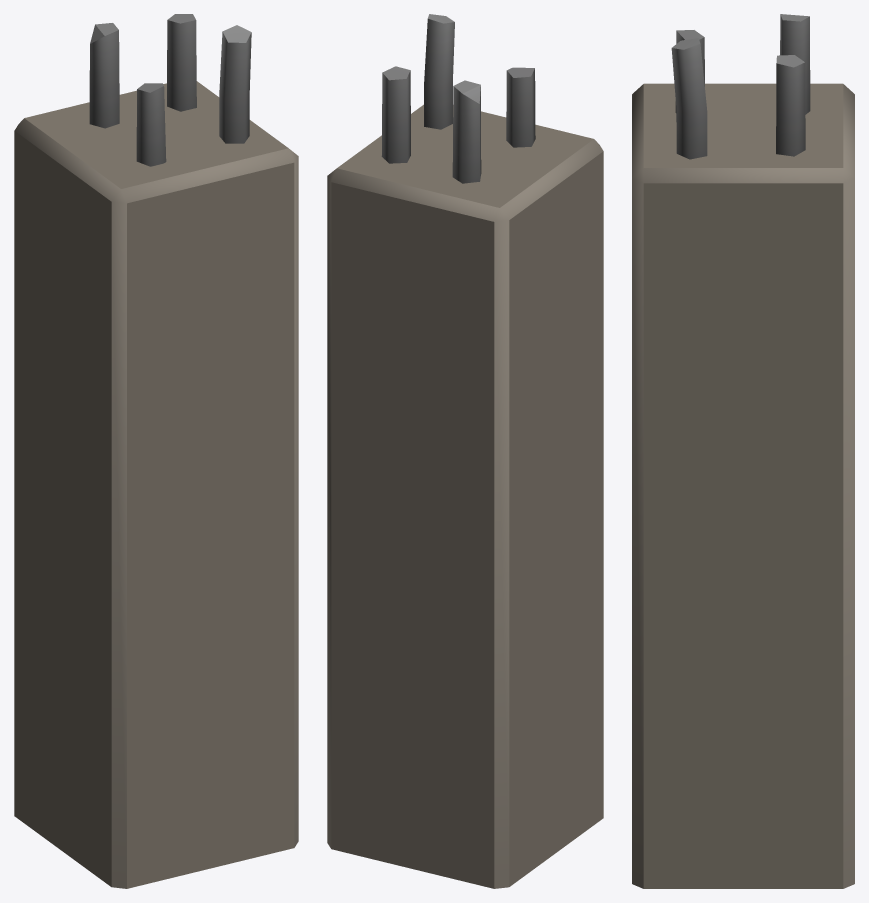
The model's file is Pilar_A_2.obj.
The picture shows the model from 3 angles, left to right: view 1: azimuth 30°, elevation 25°; view 2: azimuth 150°, elevation 25°; view 3: azimuth 270°, elevation 25°; orthographic projection. The views are drawn at different scales.
Parts seen in each view (by area): view 1: Pilar_A_2; view 2: Pilar_A_2; view 3: Pilar_A_2.
Part boxes in pixels (x1,y1,x2,y2): Pilar_A_2: [14, 14, 298, 888]; Pilar_A_2: [327, 14, 603, 888]; Pilar_A_2: [632, 14, 854, 888].
Bounding box in the file's own units: 0.5496 × 2.26 × 0.551.
